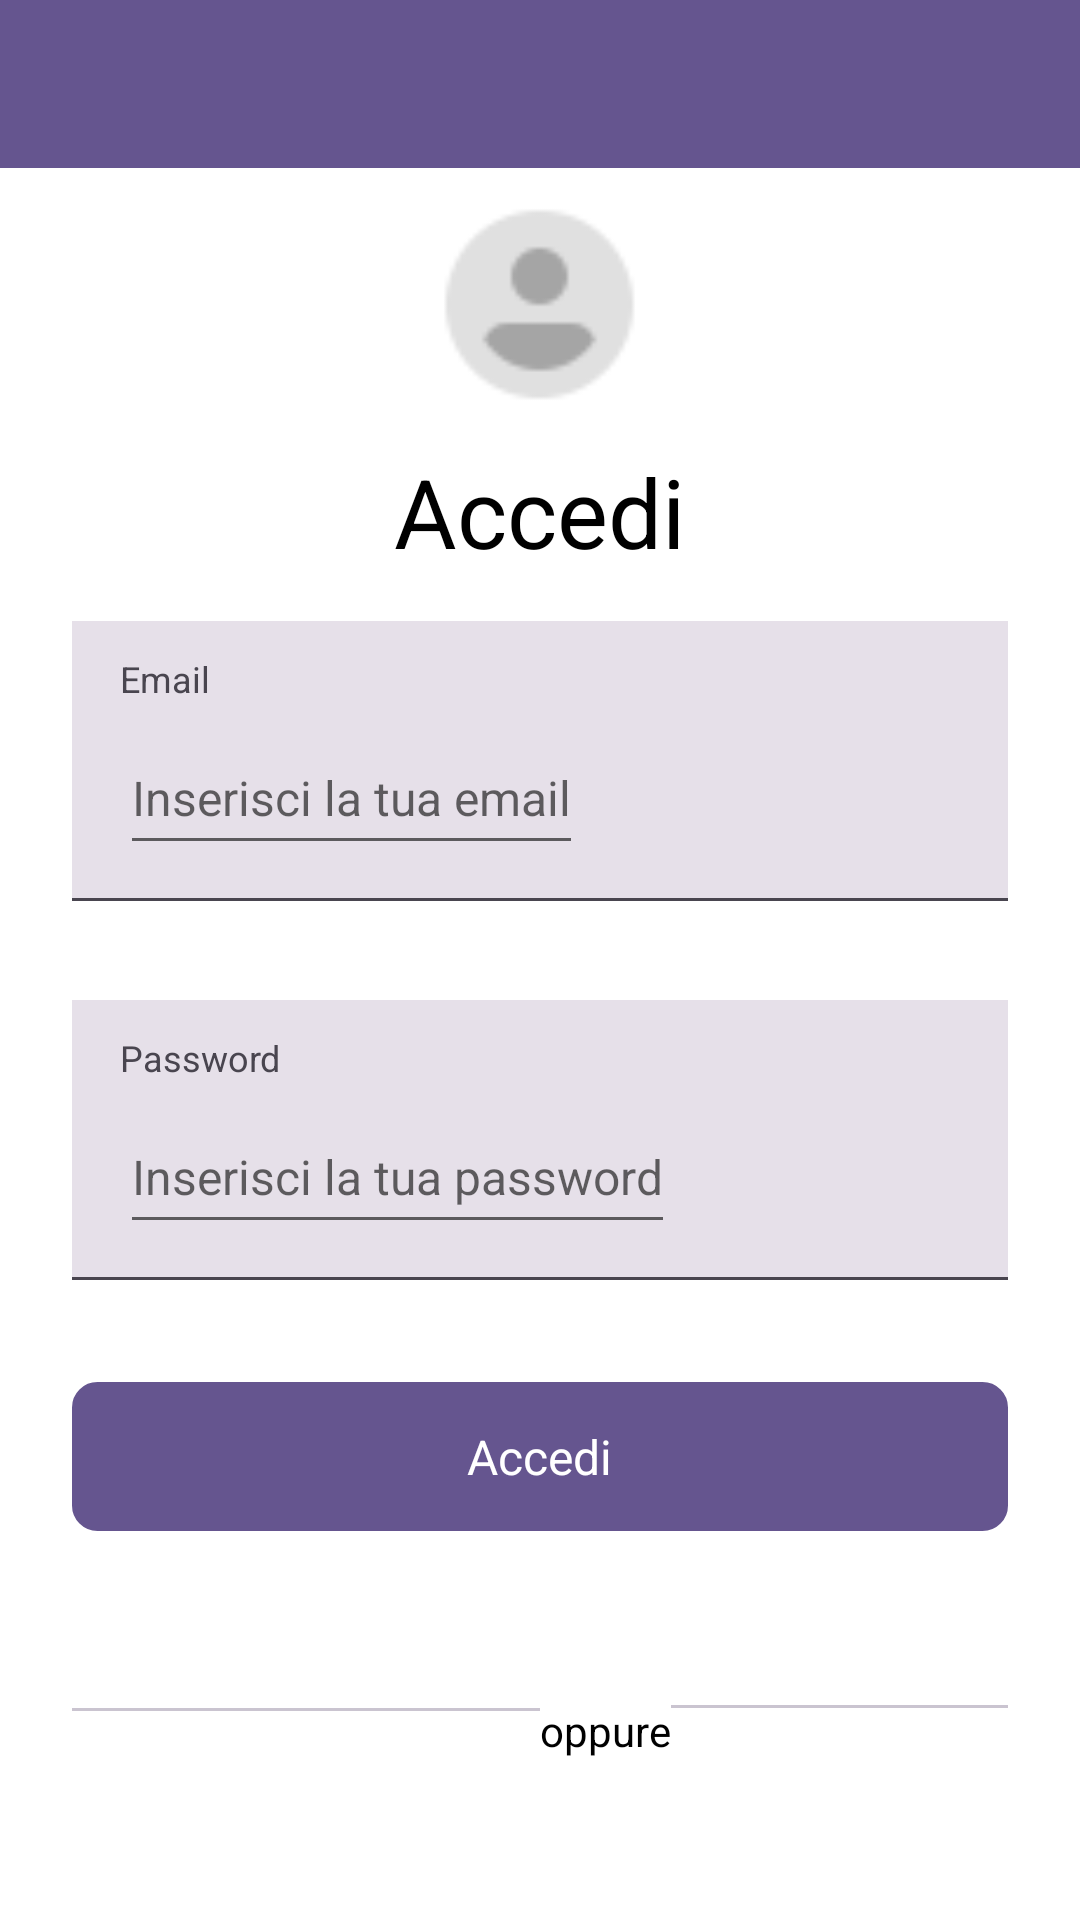

Screen size 1080×1920. Icon name, then its box in pixels as [x1=x1, y1=y1, x2=x2, y2=y2]:
account: [x1=447, y1=212, x2=632, y2=397]
